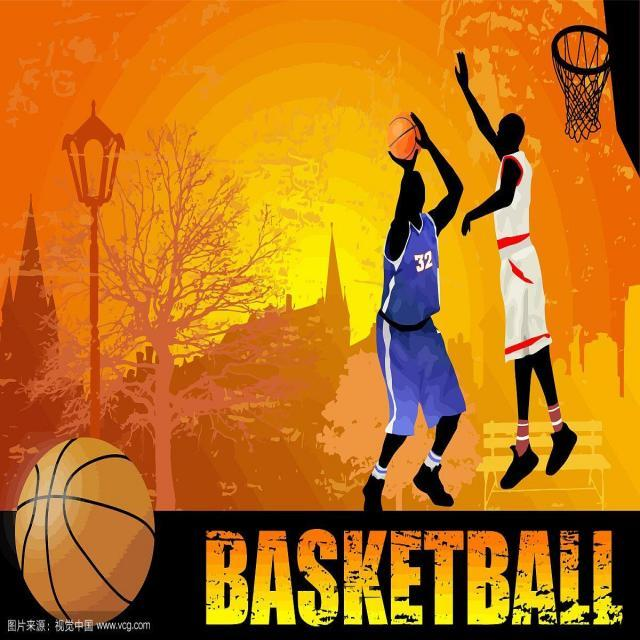rim: (15, 441, 156, 623), (388, 114, 422, 162)
